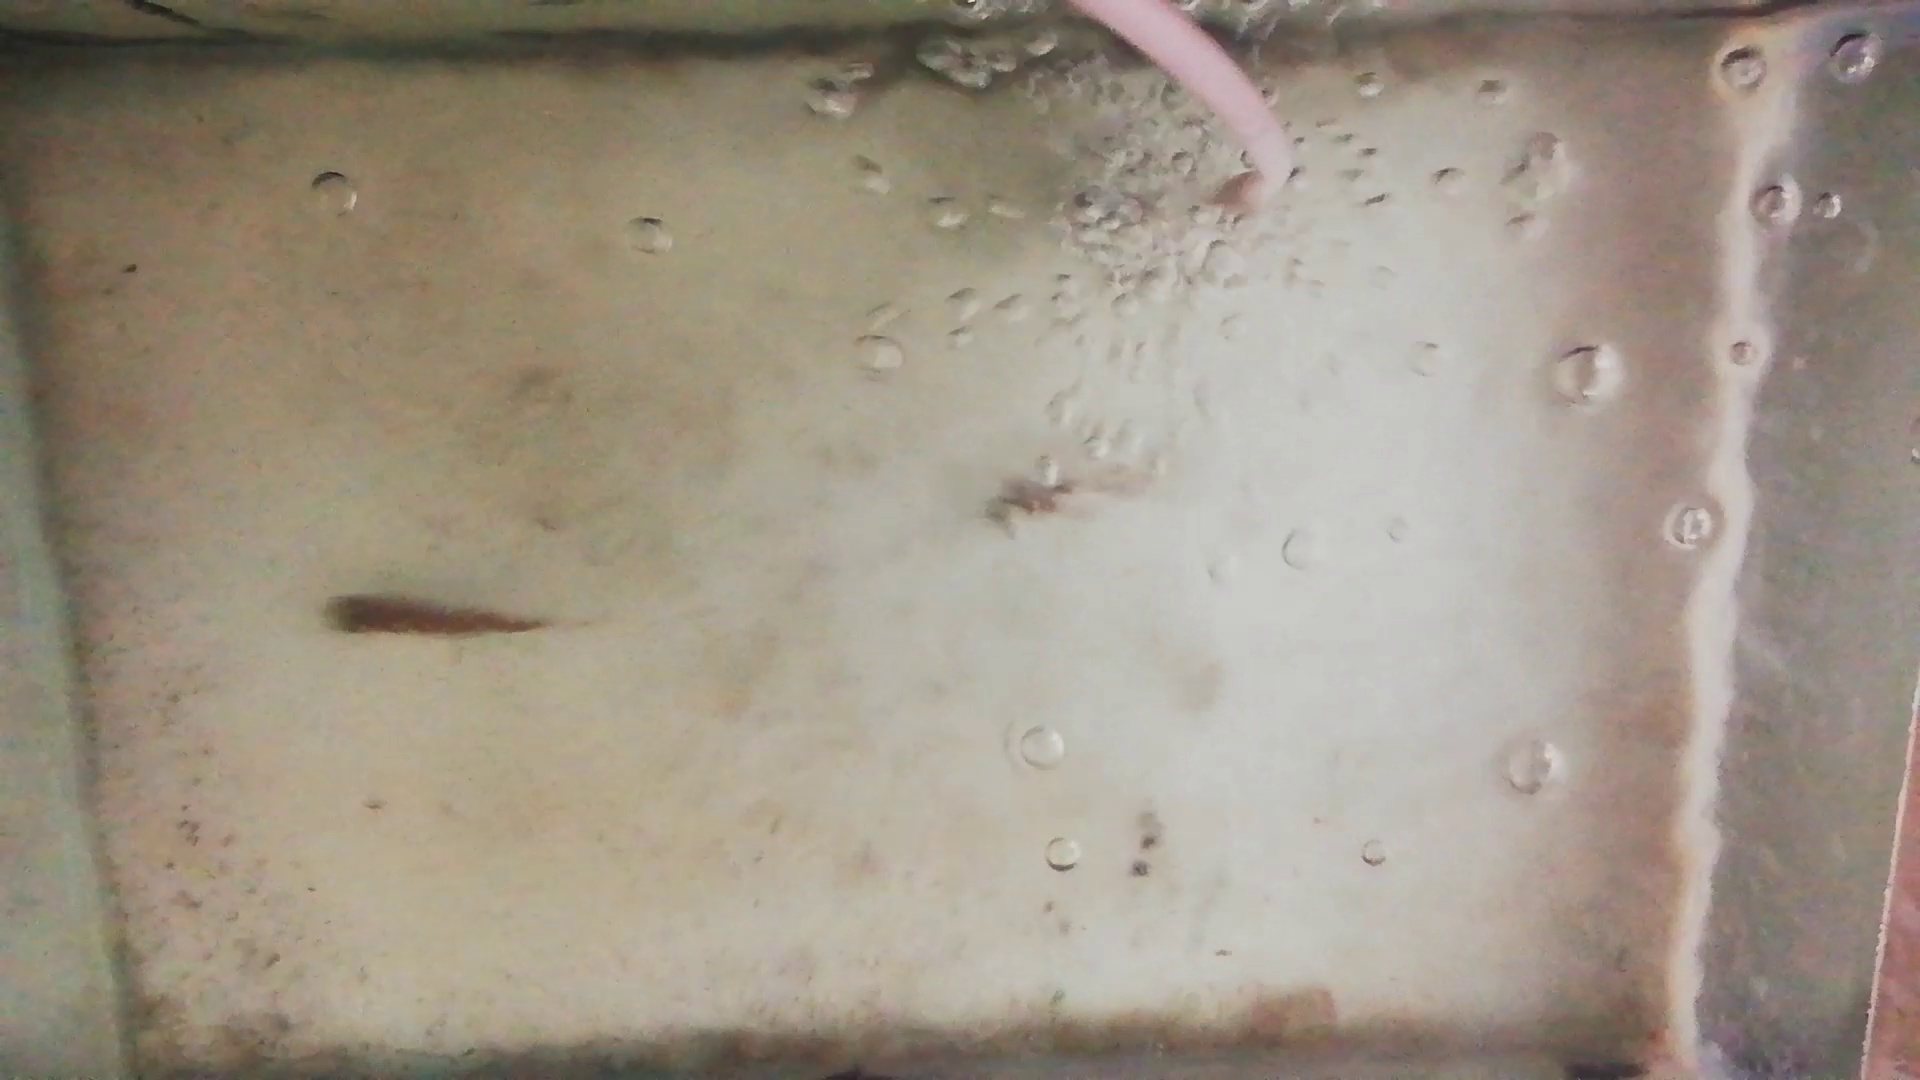fish: (320, 593, 545, 640), (989, 469, 1139, 524)
